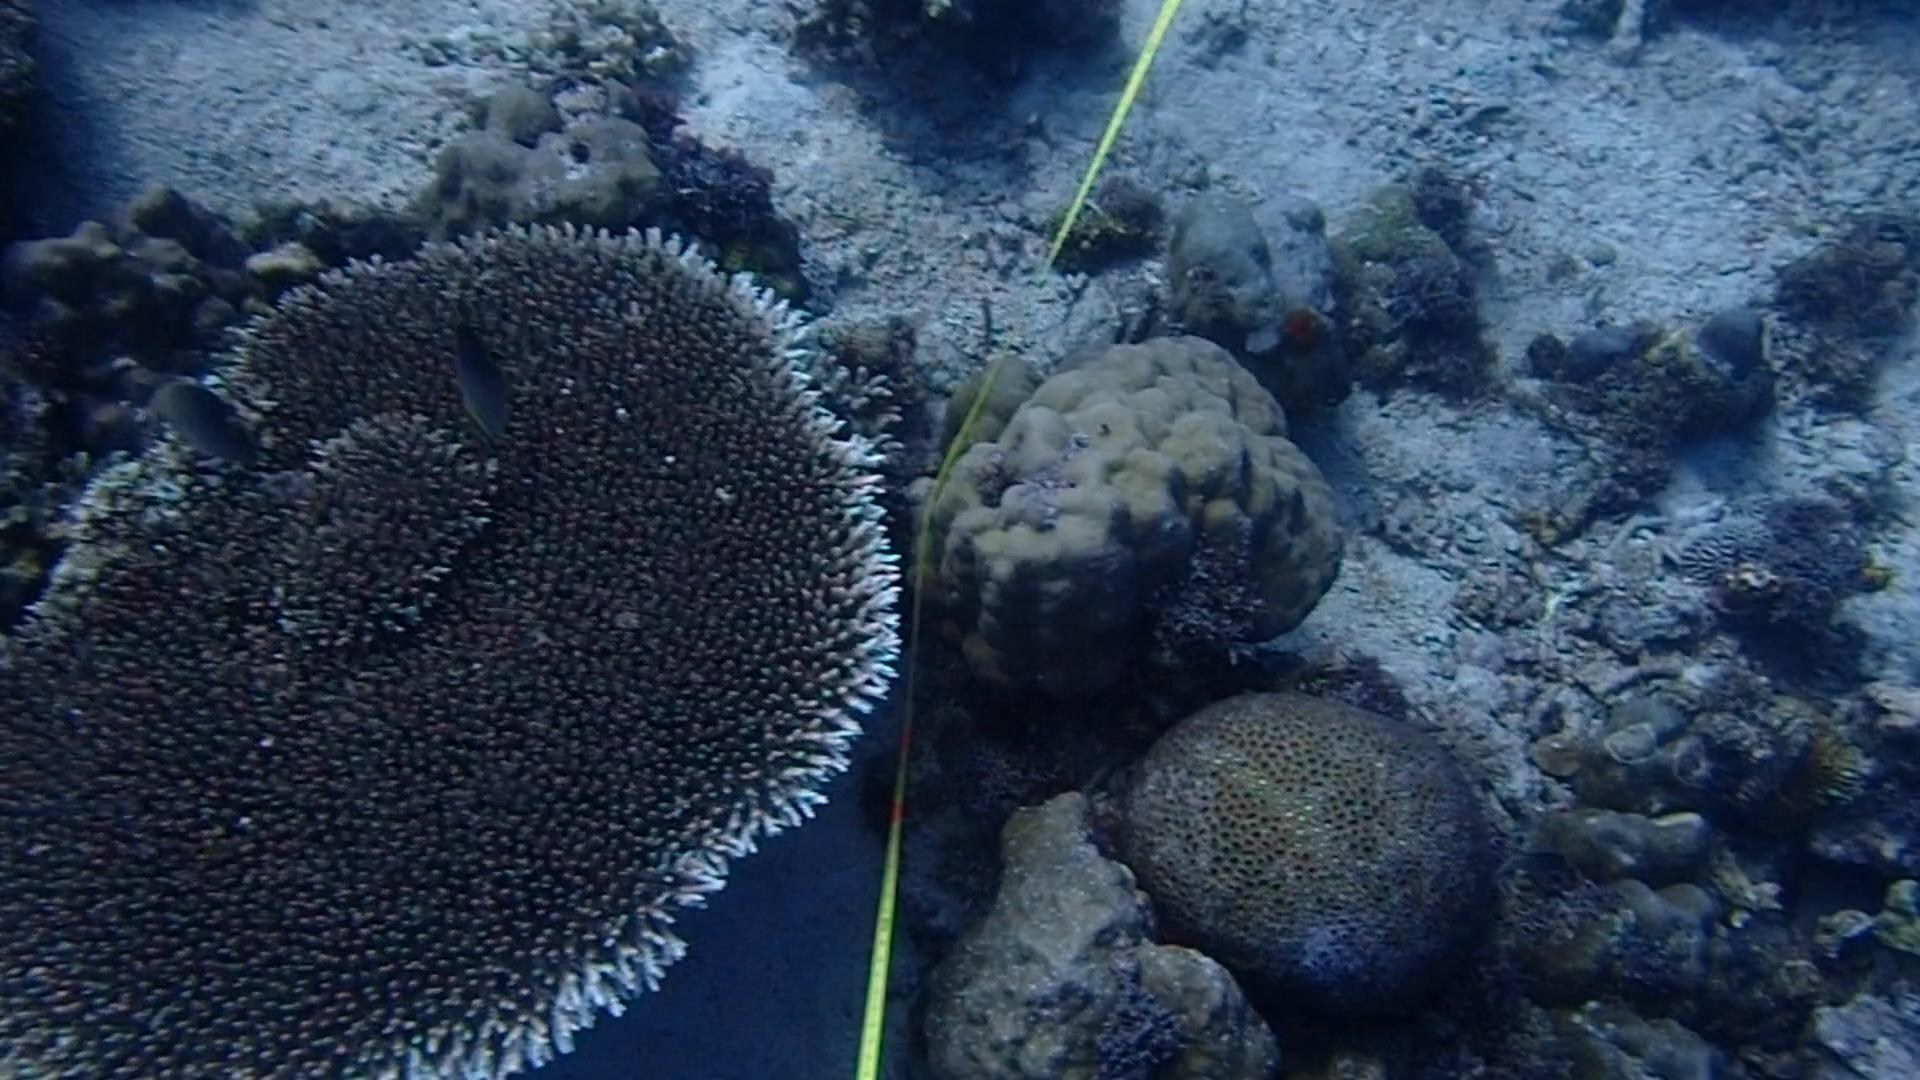Dark Blue Dory: (415, 301, 527, 444), (161, 361, 262, 487)
Light Fish: (1491, 840, 1569, 891)
